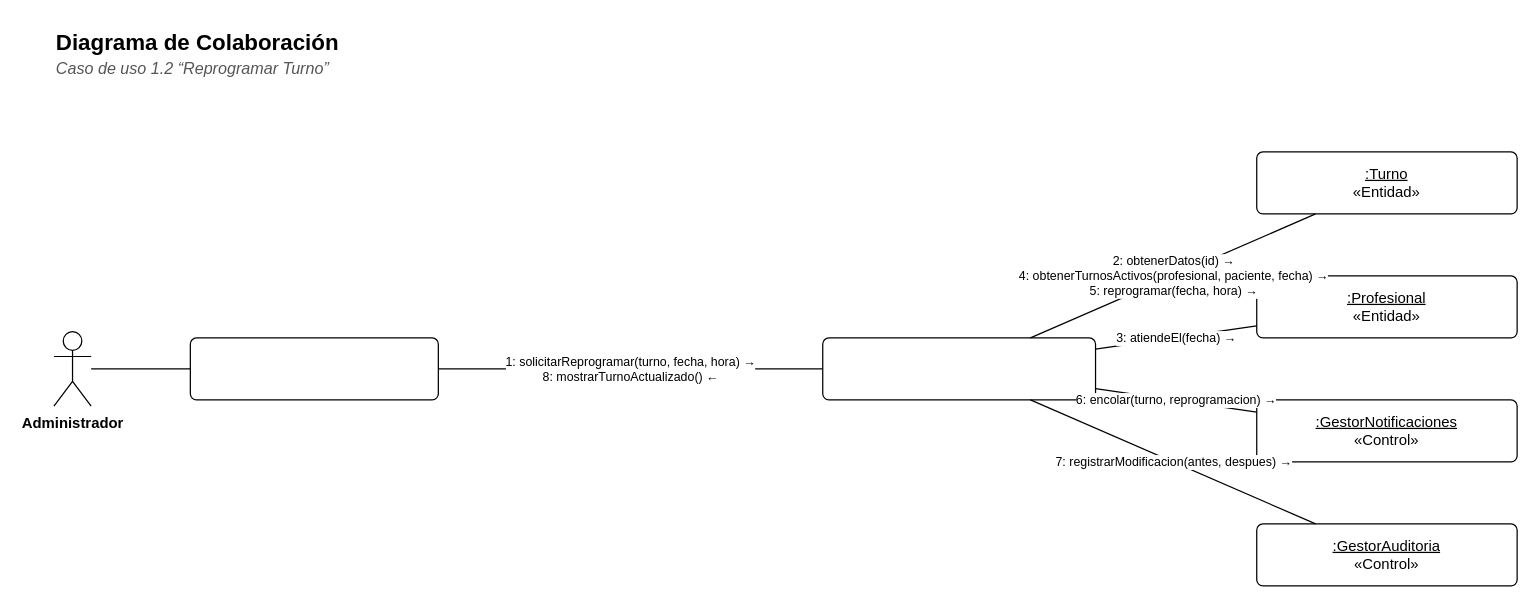
Some shapes in this 1539 by 608 pixel diagram are drawn without their labels. The centre of each missing label's shape, as x and y in pixels:
:GestorTurnos «Control»: the point at 959,368
:UI Turno «Interfaz»: the point at 313,368
